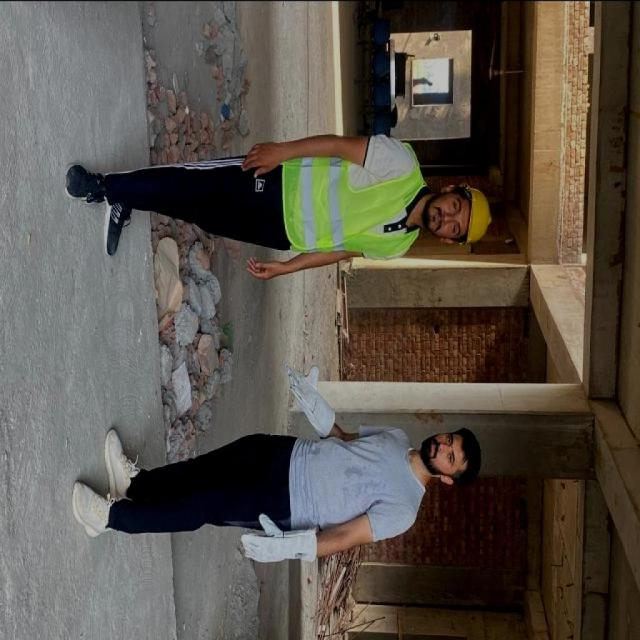Gloves-Detection: (242, 509, 321, 563), (284, 362, 335, 428)
